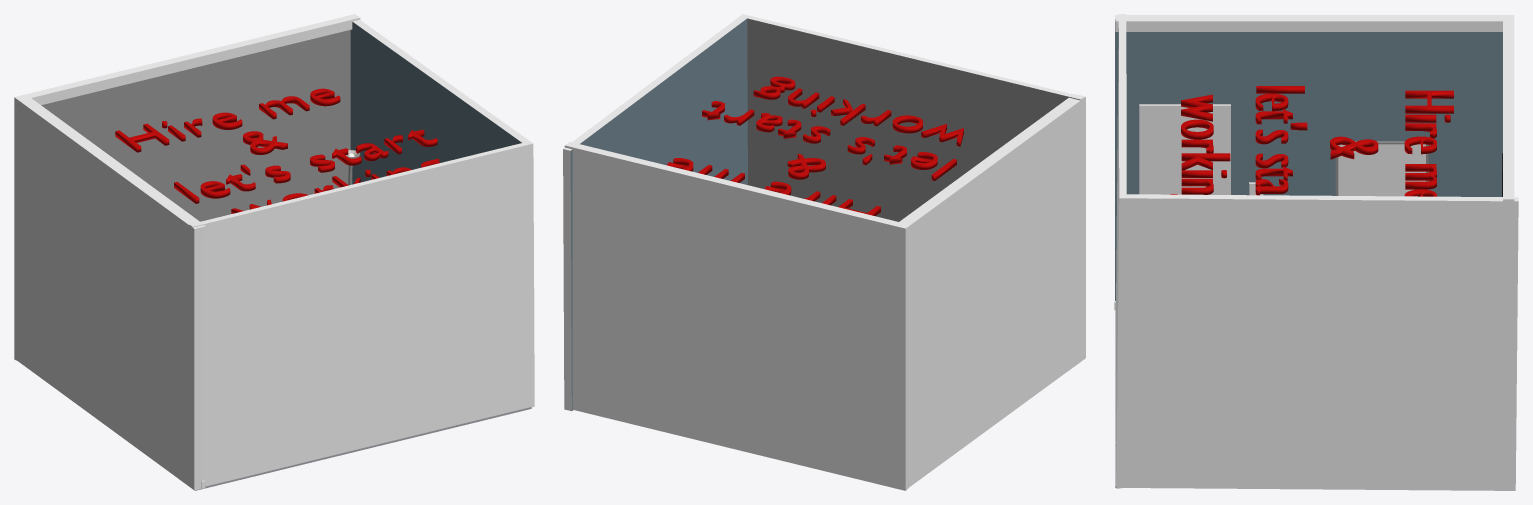
The model's file is myroom.obj.
3 views of the same model, side by side, from view 1: azimuth 30°, elevation 25°; view 2: azimuth 150°, elevation 25°; view 3: azimuth 270°, elevation 25° (orthographic). The views are drawn at different scales.
Visible parts, largest first — view 1: group2134886970, group1987275120, Text, group609791403, group2124208635; view 2: group1987275120, group2134886970, Text, group609791403; view 3: group2134886970, group1987275120, Text, group609791403, group1871896990, group532662748.
Boxes of the visible parts, left/top/right/bottom form: group2134886970: left=189, top=19, right=534, bottom=486; group1987275120: left=14, top=14, right=357, bottom=490; Text: left=115, top=88, right=439, bottom=213; group609791403: left=25, top=16, right=360, bottom=236; group2124208635: left=194, top=407, right=531, bottom=490; group1987275120: left=564, top=95, right=1085, bottom=490; group2134886970: left=563, top=14, right=1084, bottom=411; Text: left=667, top=76, right=963, bottom=216; group609791403: left=568, top=94, right=1077, bottom=224; group2134886970: left=1116, top=14, right=1518, bottom=490; group1987275120: left=1115, top=15, right=1514, bottom=489; Text: left=1170, top=86, right=1453, bottom=196; group609791403: left=1115, top=19, right=1507, bottom=209; group1871896990: left=1142, top=108, right=1227, bottom=194; group532662748: left=1335, top=141, right=1428, bottom=196.
Size of the model in its own units: 4.04 by 2.99 by 3.75.
